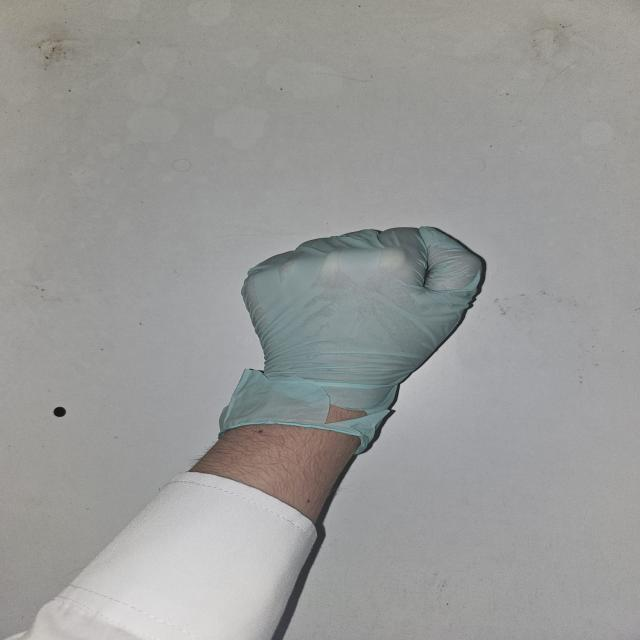gloves_damaged: (218, 224, 487, 451)
